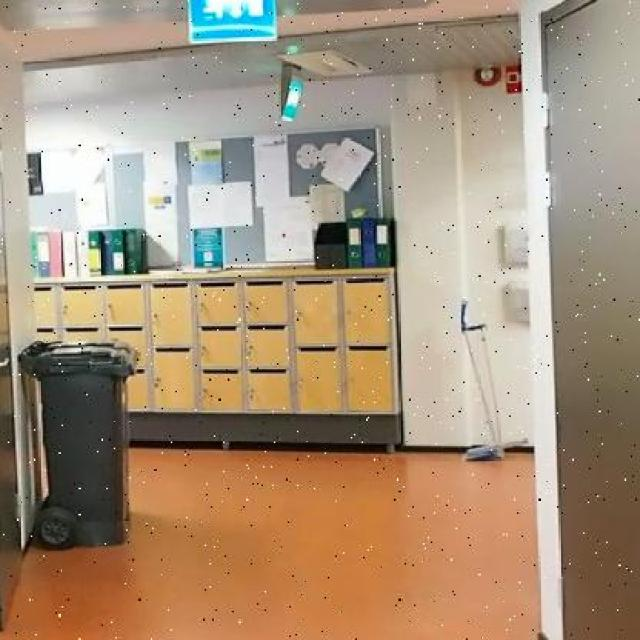emergency_exit: (186, 0, 278, 44)
